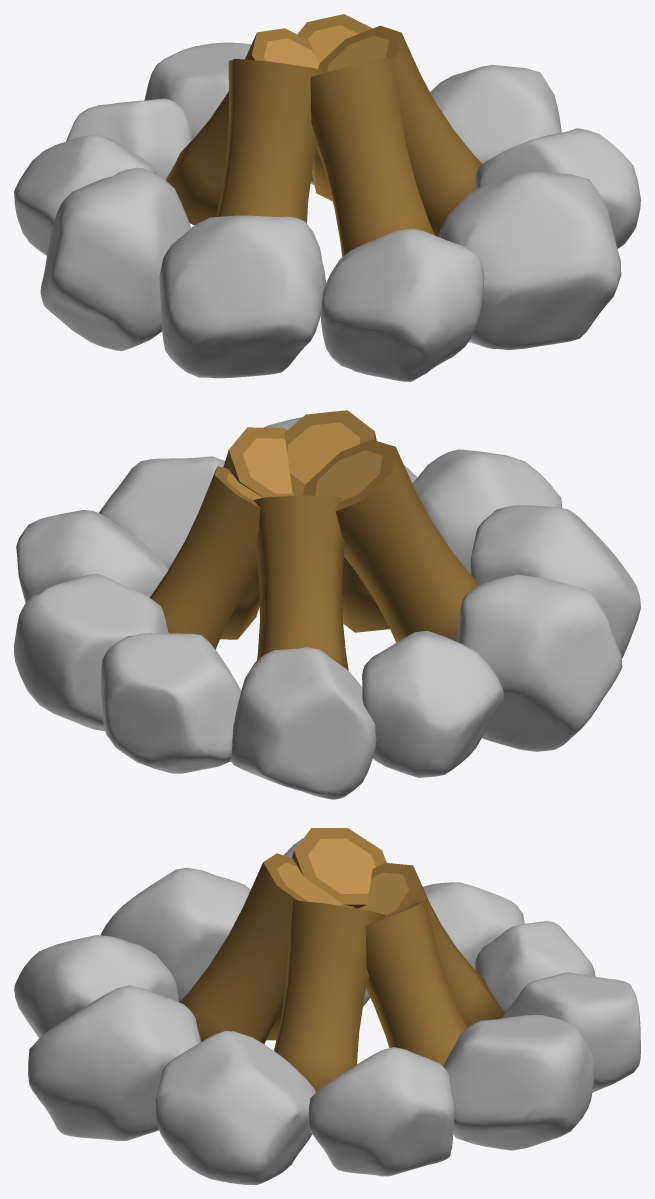
The model's file is Kamp_Atesi.fbx.
3 renders of one model, top to bottom at view 1: azimuth 30°, elevation 25°; view 2: azimuth 150°, elevation 25°; view 3: azimuth 270°, elevation 25°, orthographic. The views are drawn at different scales.
Parts seen in each view (by area): view 1: PM3D_Sphere3D; view 2: PM3D_Sphere3D; view 3: PM3D_Sphere3D.
Boxes of the visible parts, box(x1,y1,x2,y2) form: PM3D_Sphere3D: box(14, 14, 640, 381); PM3D_Sphere3D: box(14, 410, 640, 799); PM3D_Sphere3D: box(14, 828, 640, 1184).
Size of the model in its own units: 113 by 50.1 by 116.
